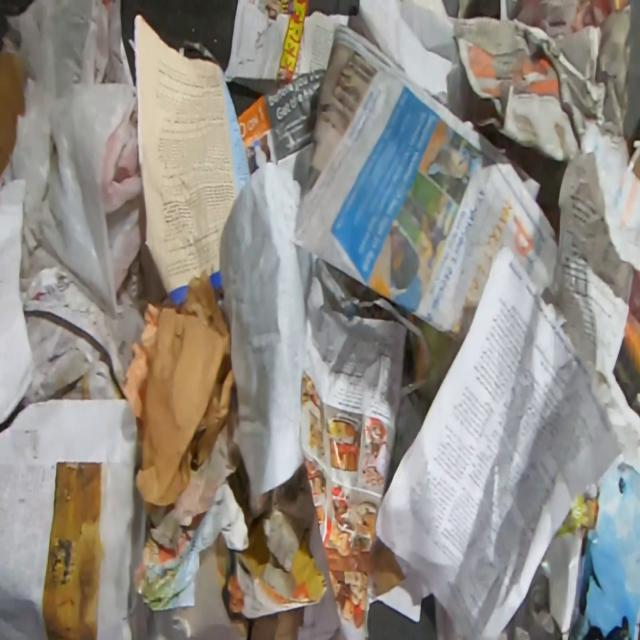cardboard: (133, 265, 237, 514), (222, 462, 332, 624), (0, 51, 24, 176), (248, 608, 304, 640)
soft_plastic: (0, 0, 146, 384)
